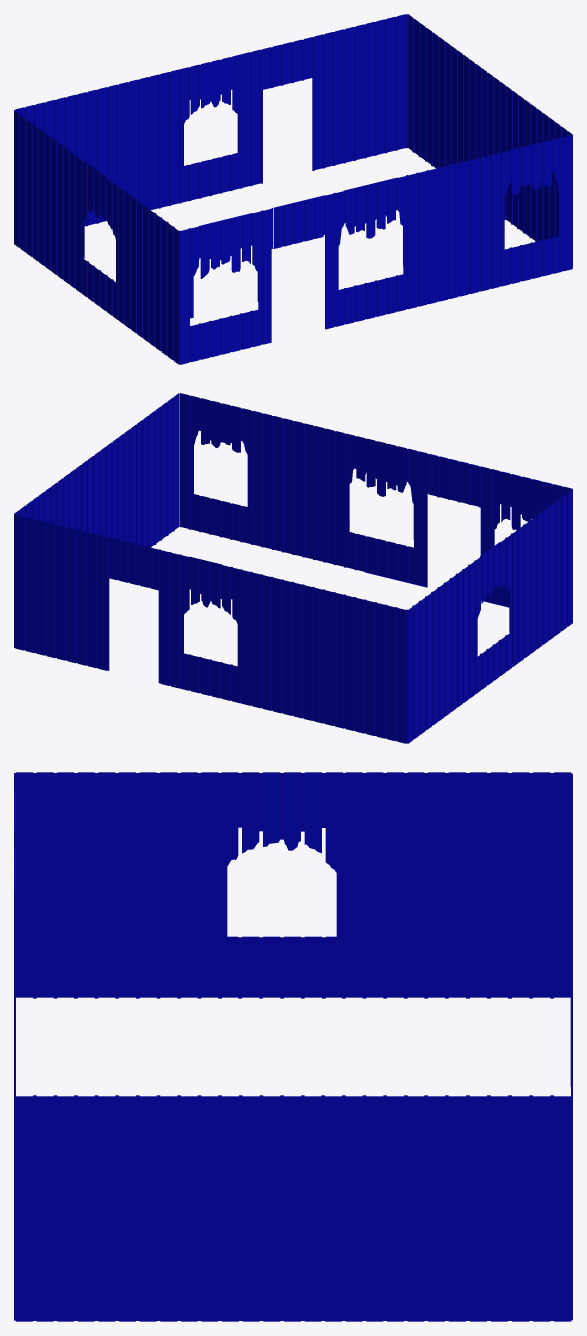
The model's file is SM_MI_OfficeWall02.fbx.
3 renders of one model, top to bottom at view 1: azimuth 30°, elevation 25°; view 2: azimuth 150°, elevation 25°; view 3: azimuth 270°, elevation 25°, orthographic. The views are drawn at different scales.
Parts seen in each view (by area): view 1: SM_ST_Office01.mo.001; view 2: SM_ST_Office01.mo.001; view 3: SM_ST_Office01.mo.001.
Part boxes in pixels (x1,y1,x2,y2): SM_ST_Office01.mo.001: (14,14,572,364); SM_ST_Office01.mo.001: (14,393,572,743); SM_ST_Office01.mo.001: (14,772,572,1321).
Bounding box in the file's own units: 1206 × 879 × 391.
